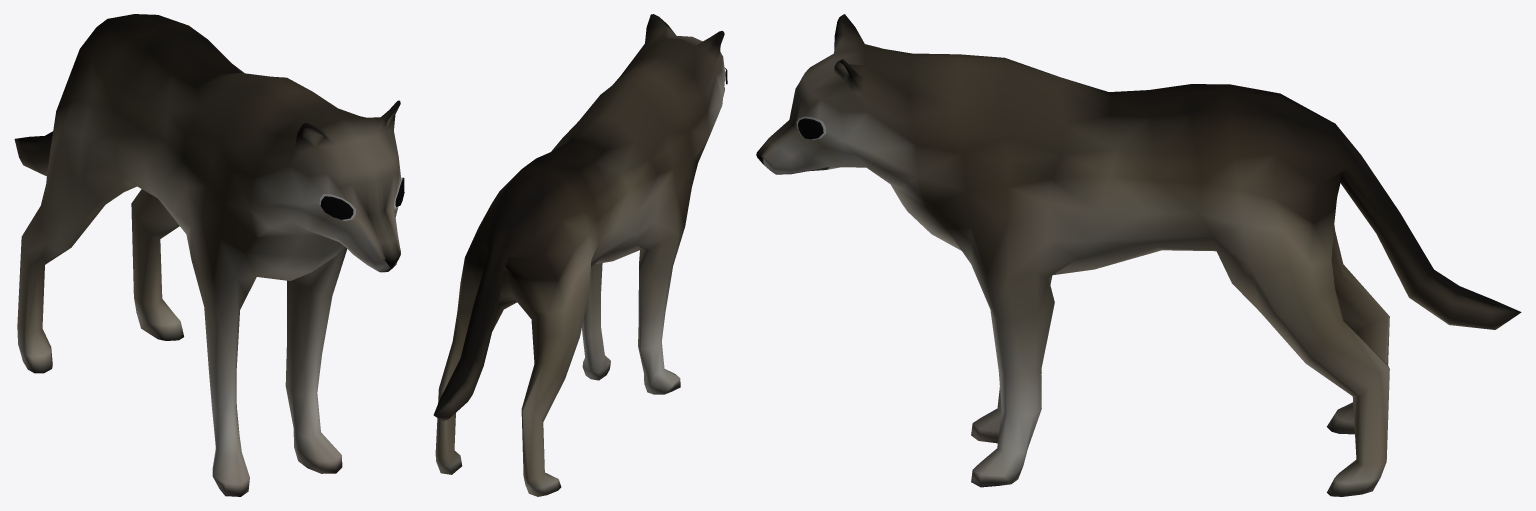
The model's file is kit-wolf.glb.
3 views of the same model, side by side, from view 1: azimuth 30°, elevation 25°; view 2: azimuth 150°, elevation 25°; view 3: azimuth 270°, elevation 25° (orthographic). The views are drawn at different scales.
Parts seen in each view (by area): view 1: base; view 2: base; view 3: base.
Boxes of the visible parts, x1,y1,x2,y2 form: base: [14, 14, 404, 496]; base: [433, 14, 727, 496]; base: [756, 14, 1521, 496].
Bounding box in the file's own units: 0.3556 × 0.9395 × 1.54.
